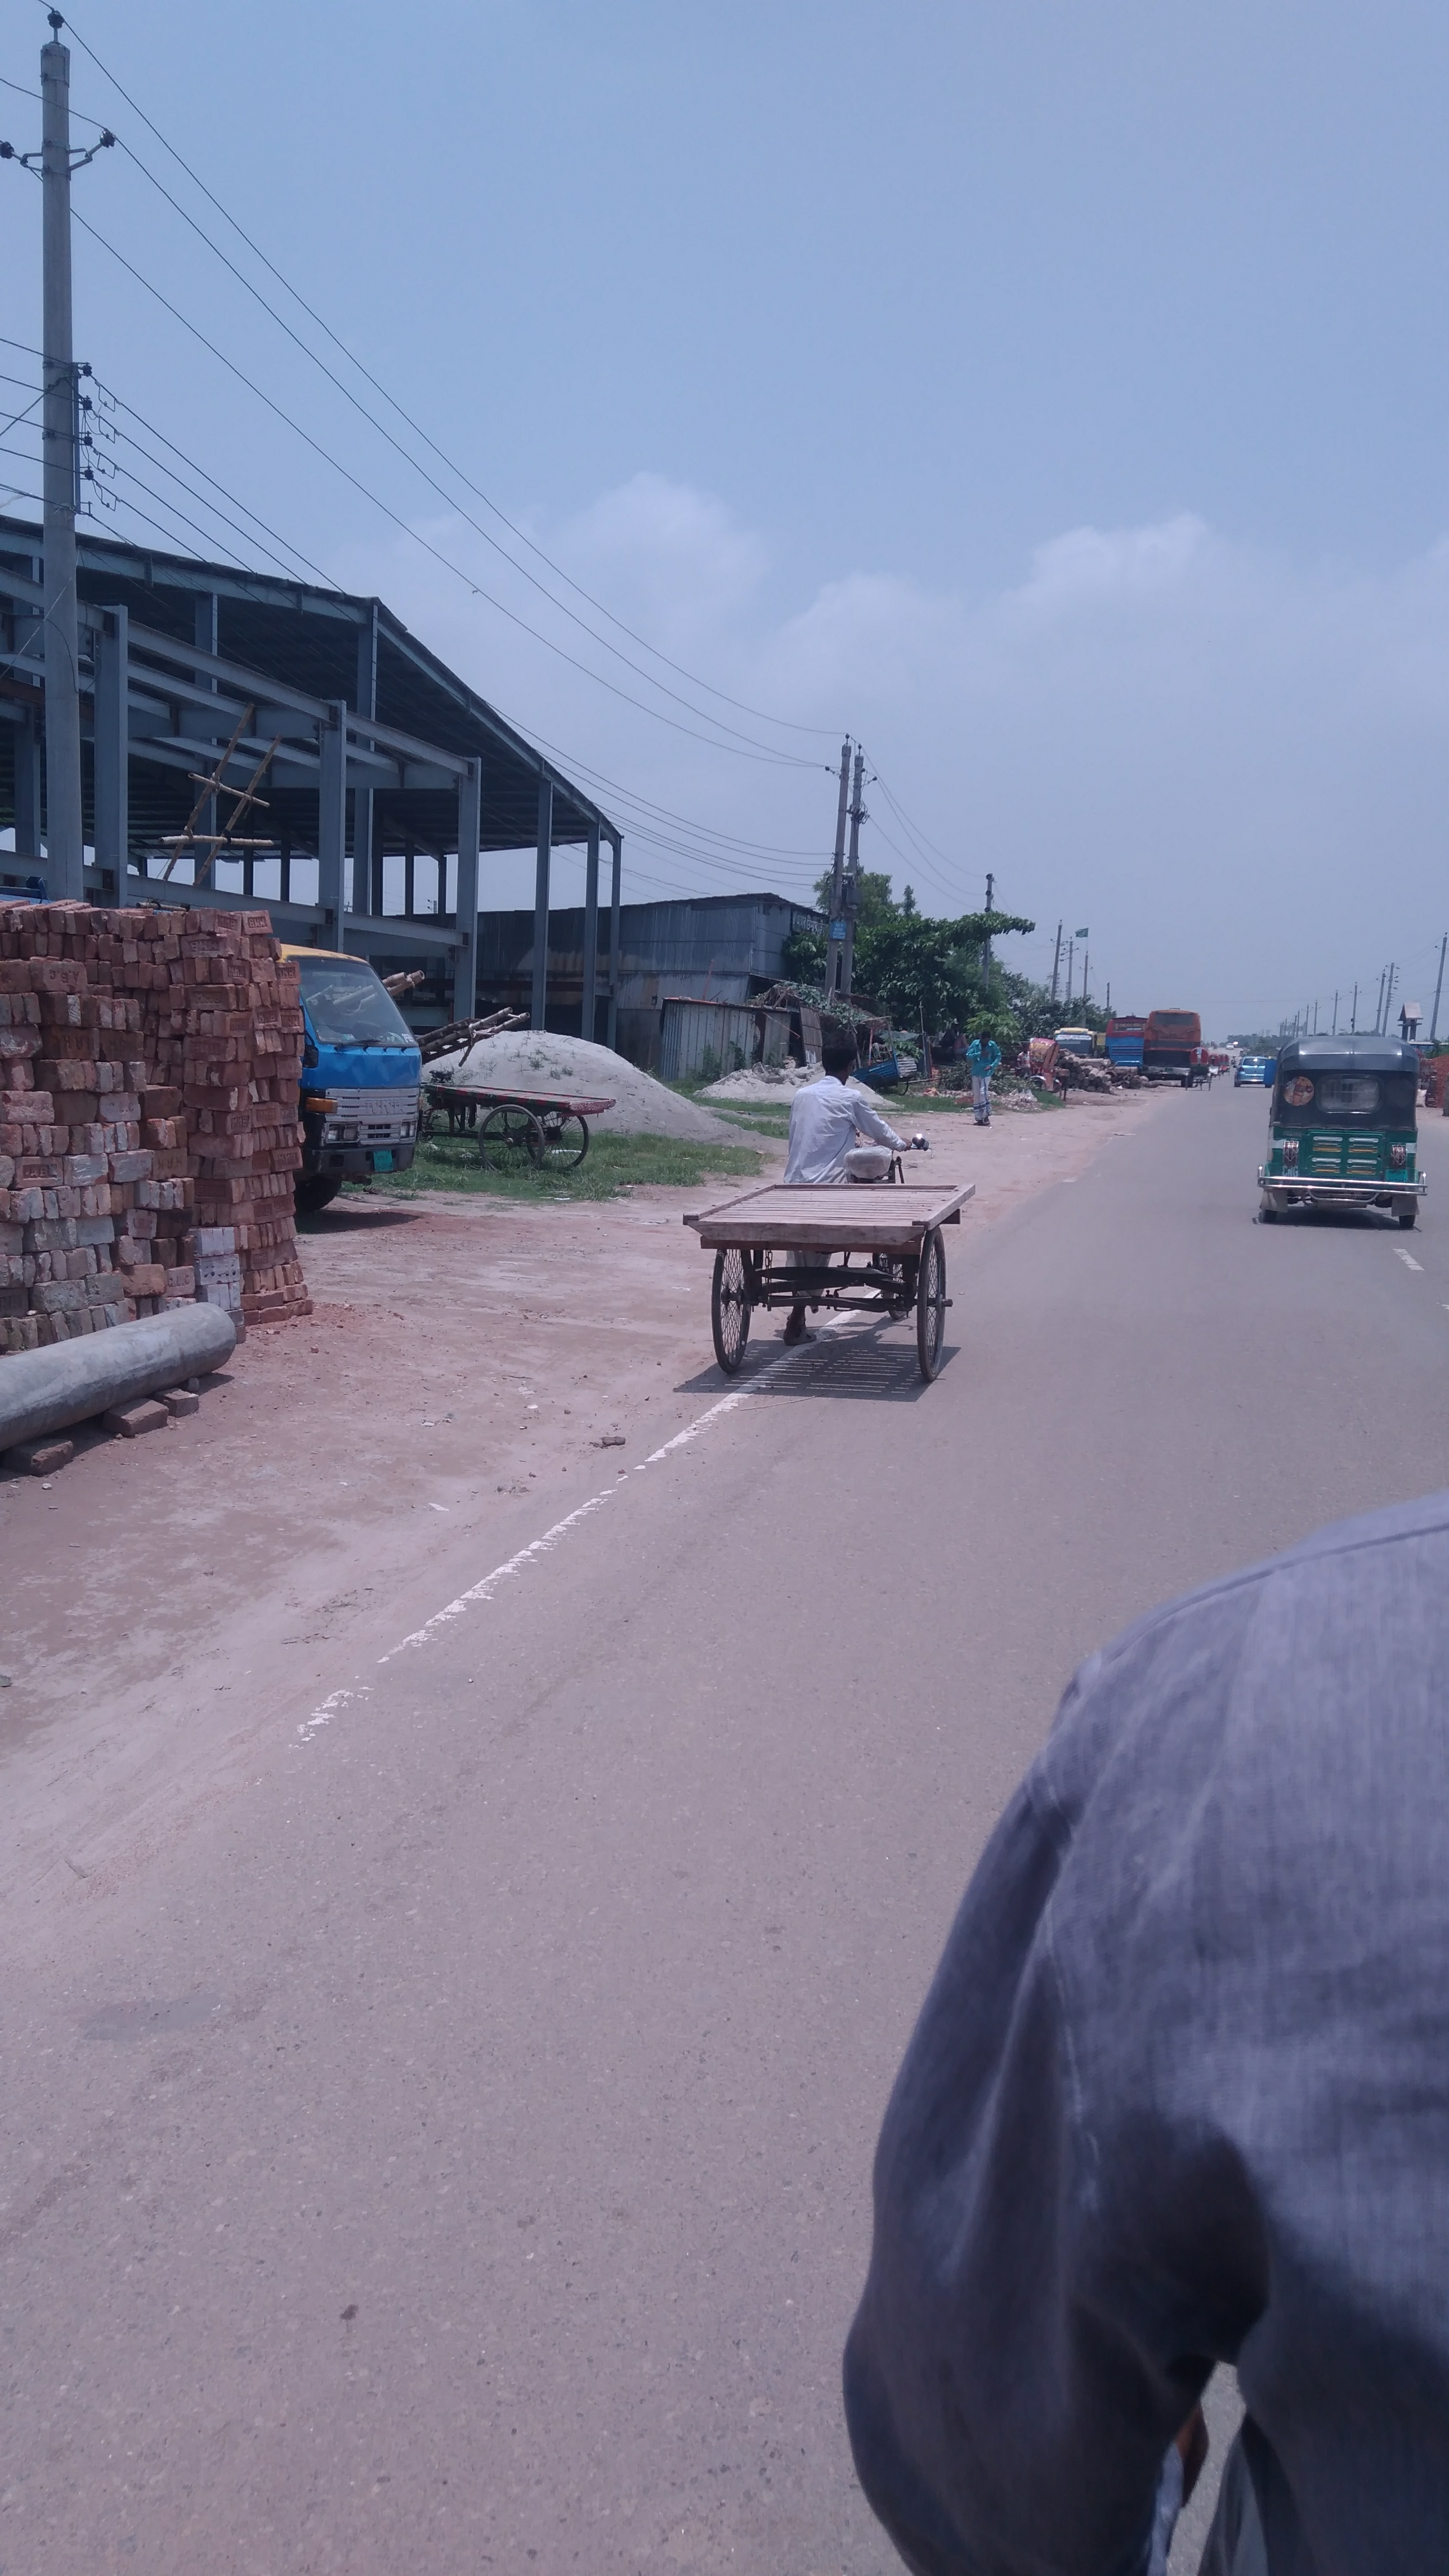cng: (1249, 1030, 1438, 1235)
truck: (241, 899, 428, 1272)
van: (681, 1171, 984, 1396), (403, 1056, 630, 1196)
